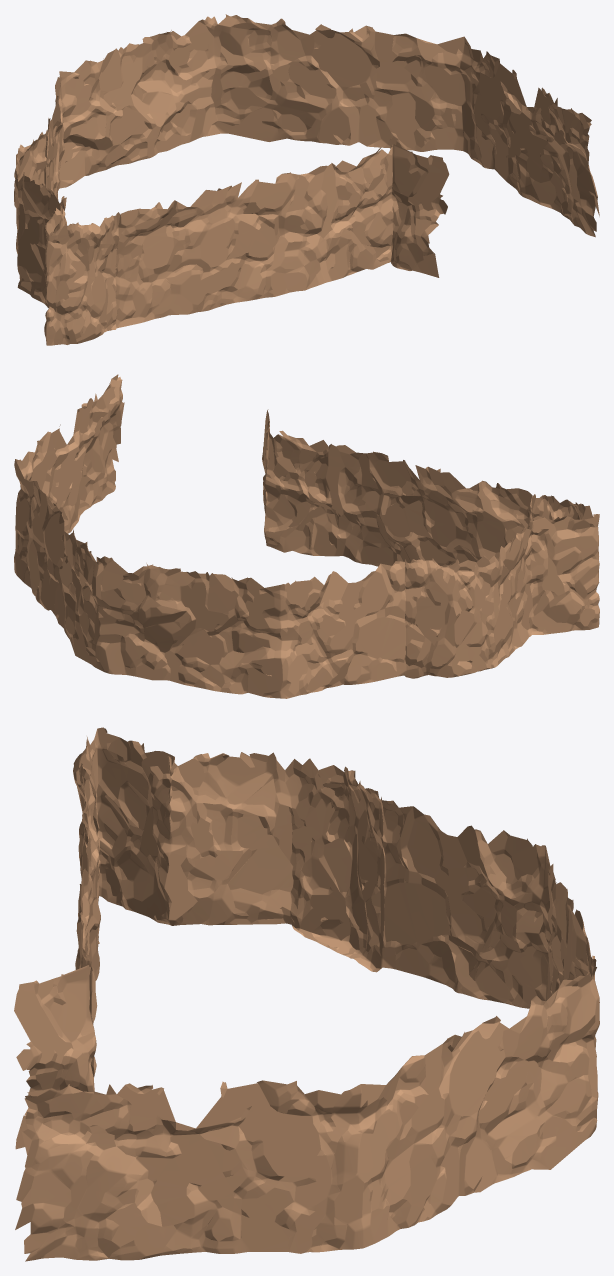
Rendered from SandstoneBig_Mesh_2_003LODs.fbx.
3 renders of one model, top to bottom at view 1: azimuth 30°, elevation 25°; view 2: azimuth 150°, elevation 25°; view 3: azimuth 270°, elevation 25°, orthographic. The views are drawn at different scales.
Parts seen in each view (by area): view 1: Mesh_2.003_LOD0; view 2: Mesh_2.003_LOD0; view 3: Mesh_2.003_LOD0.
Part boxes in pixels (<box>): Mesh_2.003_LOD0: <box>14,14,599,345</box>; Mesh_2.003_LOD0: <box>14,374,599,698</box>; Mesh_2.003_LOD0: <box>14,727,599,1261</box>.
Size of what is drawn, in the model's own units: 19393 by 4427 by 13103.
